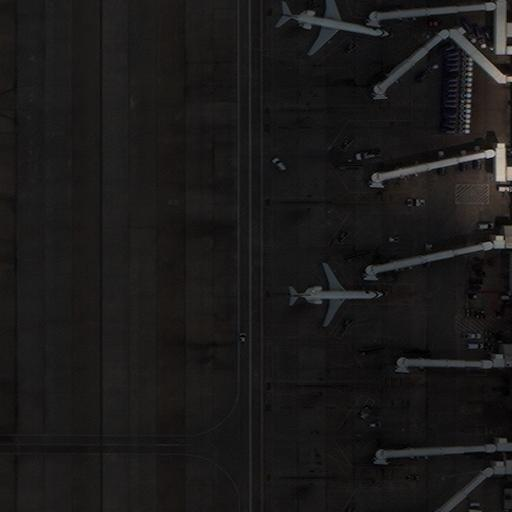Medium Civil Transport: (285, 261, 385, 327), (278, 0, 391, 56)
